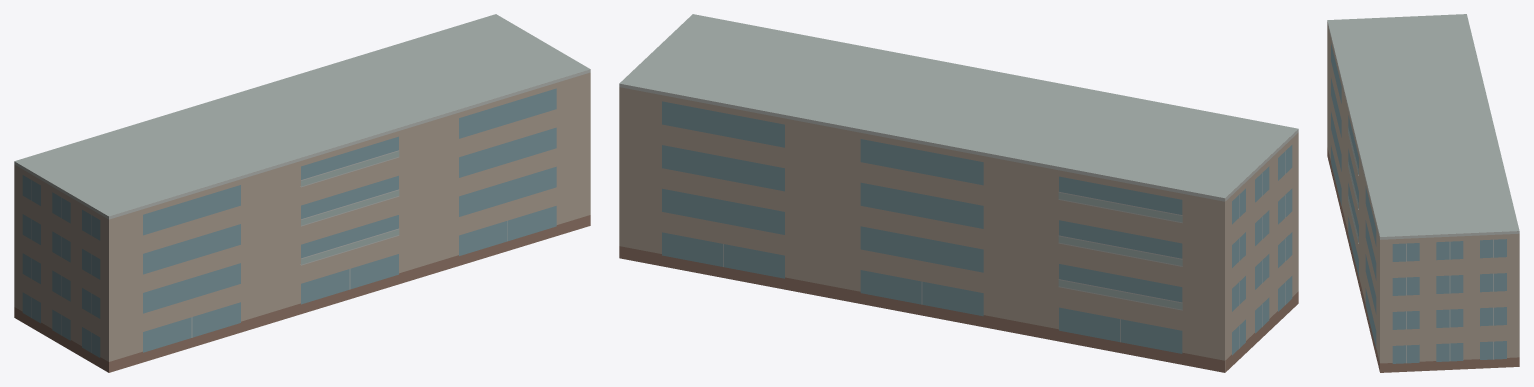
The model's file is residential-ae29d683-a09e-4817-8529-fa92a4890af5.glb.
3 renders of one model, left to right at view 1: azimuth 30°, elevation 25°; view 2: azimuth 150°, elevation 25°; view 3: azimuth 270°, elevation 25°, orthographic. The views are drawn at different scales.
Visible parts, largest first — view 1: residential-ae29d683-a09e-4817-8529-fa92a4890af5.tmp; view 2: residential-ae29d683-a09e-4817-8529-fa92a4890af5.tmp; view 3: residential-ae29d683-a09e-4817-8529-fa92a4890af5.tmp.
Part boxes in pixels (box(x1,y1,x2,y2)): residential-ae29d683-a09e-4817-8529-fa92a4890af5.tmp: box(14, 14, 590, 372); residential-ae29d683-a09e-4817-8529-fa92a4890af5.tmp: box(619, 14, 1298, 372); residential-ae29d683-a09e-4817-8529-fa92a4890af5.tmp: box(1327, 14, 1519, 372).
Size of the model in its own units: 42.99 by 12.2 by 15.66.
